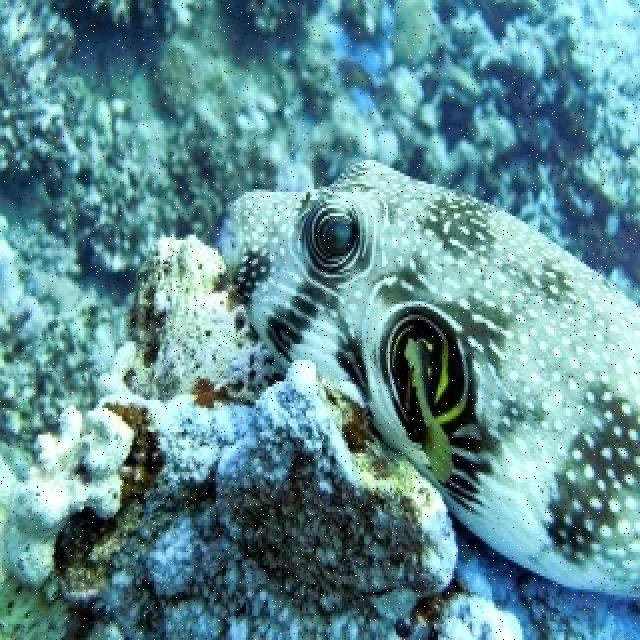fish: (227, 156, 638, 600)
reefs: (2, 407, 134, 588), (92, 344, 151, 410)
sea-floor: (0, 236, 530, 637)
